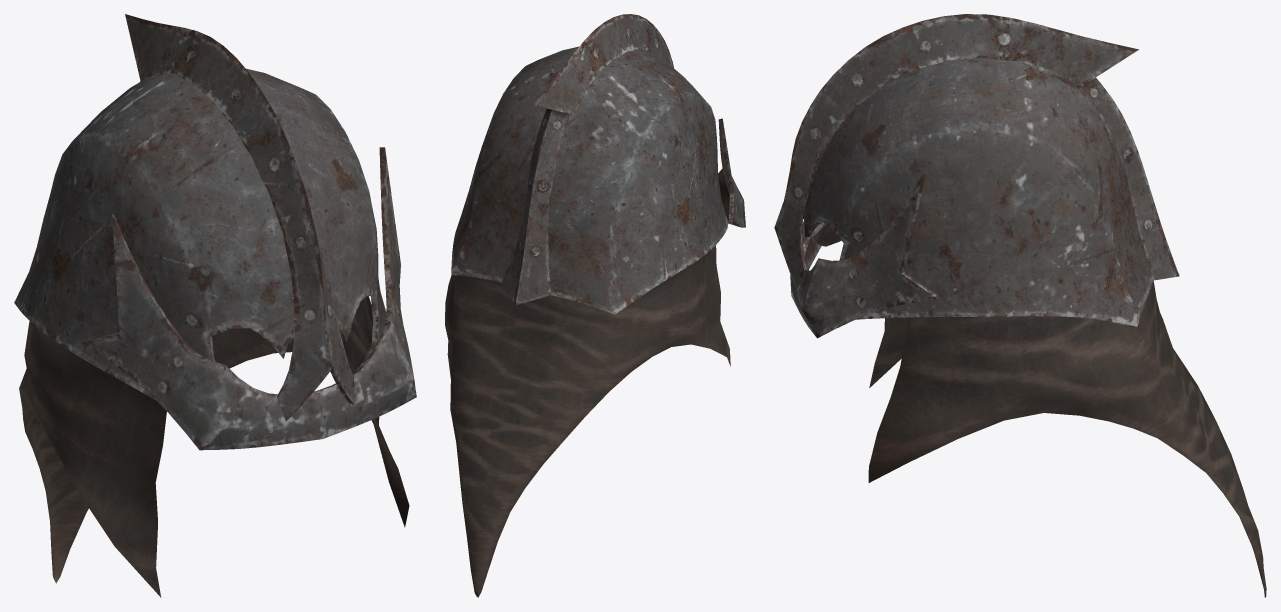
Rendered from sk_gb_uruk_helmet_heavy_h.fbx.
3 renders of one model, left to right at view 1: azimuth 30°, elevation 25°; view 2: azimuth 150°, elevation 25°; view 3: azimuth 270°, elevation 25°, orthographic. The views are drawn at different scales.
Visible parts, largest first — view 1: sk_gb_uruk_helmet_heavy_h; view 2: sk_gb_uruk_helmet_heavy_h; view 3: sk_gb_uruk_helmet_heavy_h.
Boxes of the visible parts, x1=… form: sk_gb_uruk_helmet_heavy_h: x1=14, y1=14, x2=416, y2=597; sk_gb_uruk_helmet_heavy_h: x1=445, y1=14, x2=745, y2=597; sk_gb_uruk_helmet_heavy_h: x1=774, y1=14, x2=1266, y2=597.
Bounding box in the file's own units: 0.2562 × 0.3899 × 0.5095.
Materials: 1 (1 with a texture image).
